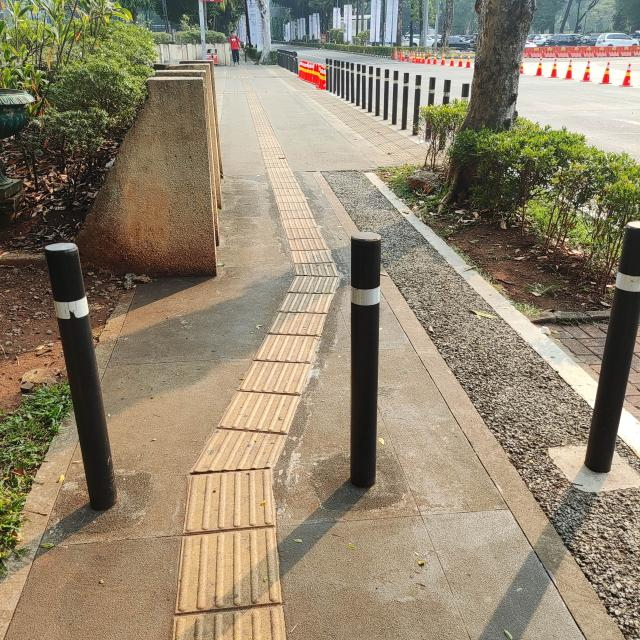lurus: (177, 400, 295, 640), (249, 122, 357, 366)
